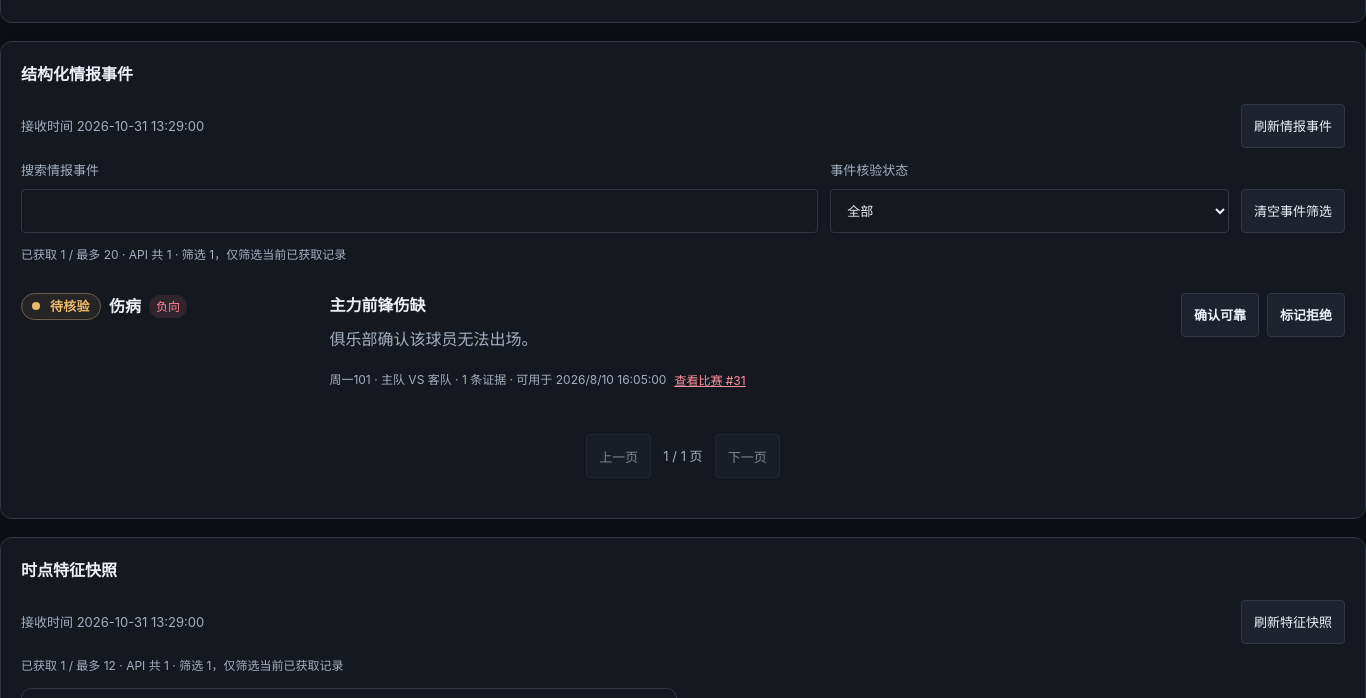
it: NewsIntelligencePage › 可人工确认结构化事件并停用信源
The image size is (1366, 698).
(page scrolled)
Step 1. Click the button "确认可靠" → x=1220, y=315, box [1181, 293, 1259, 337]
(page scrolled)
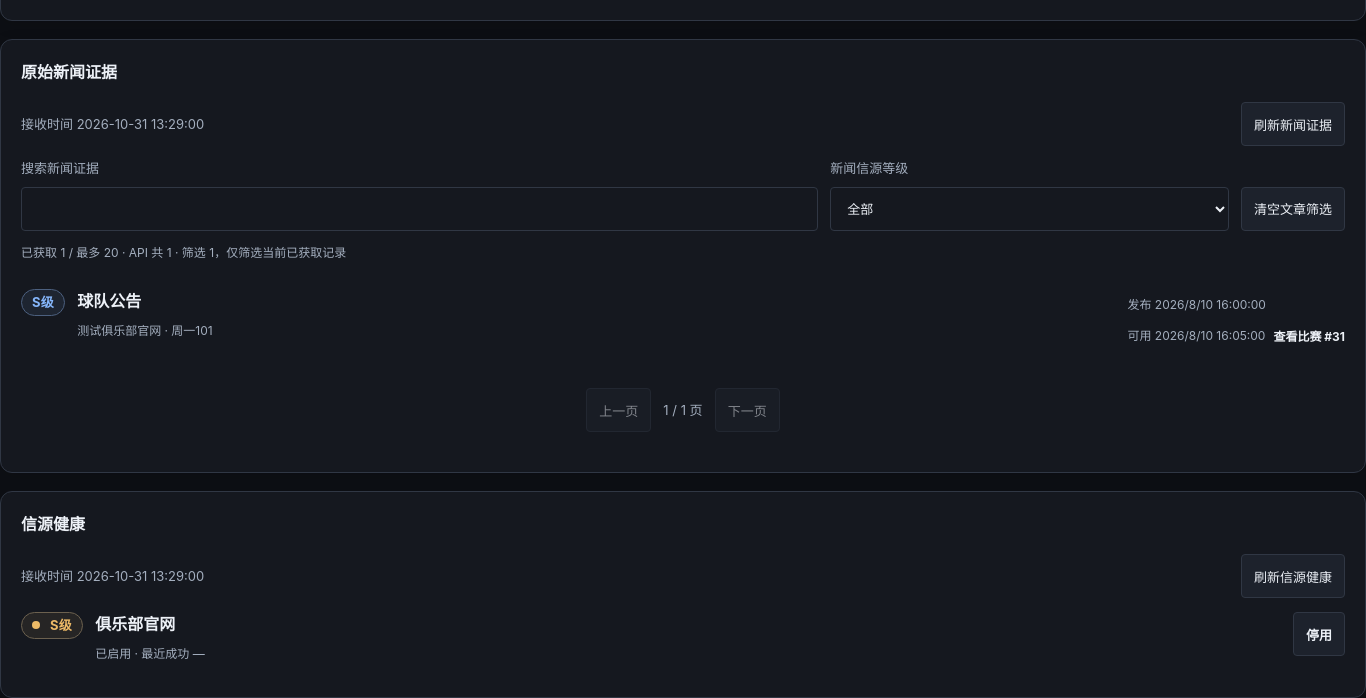
Step 2. Click the button "停用" → x=1319, y=634, box [1293, 612, 1345, 656]
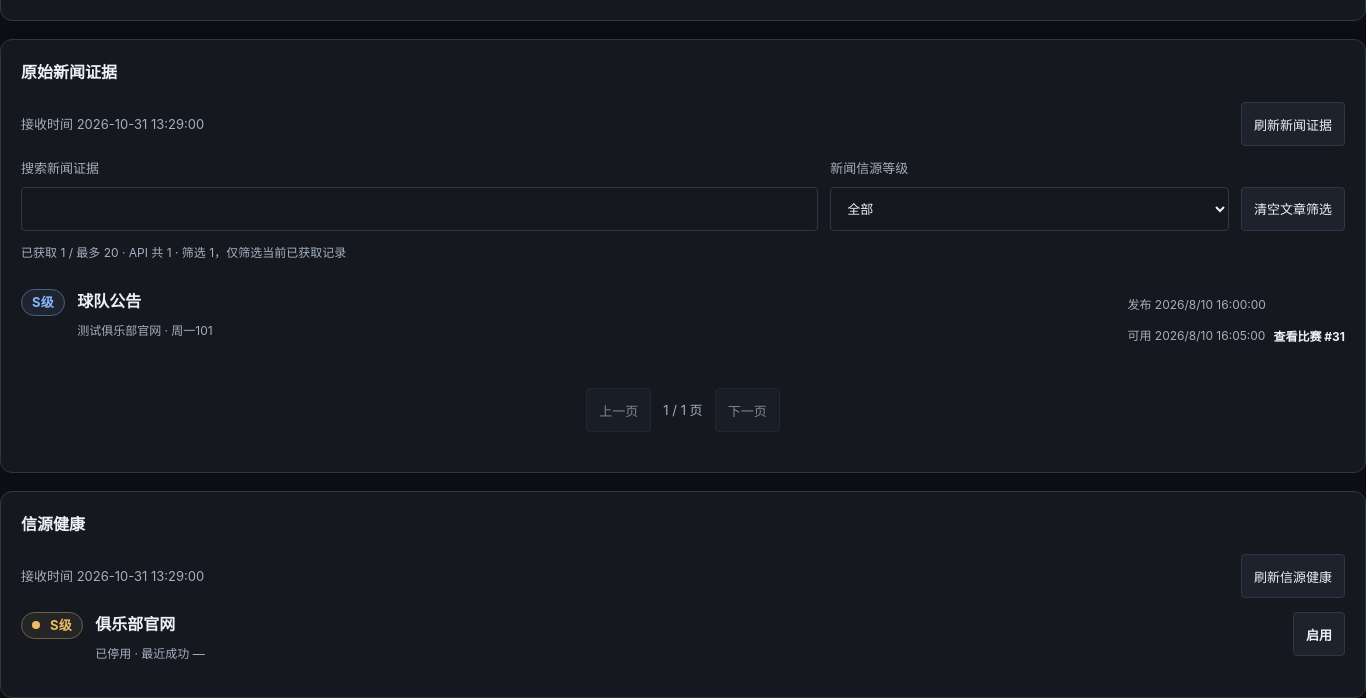
Expected: the button "启用" is shown, [1293, 612, 1345, 656]
